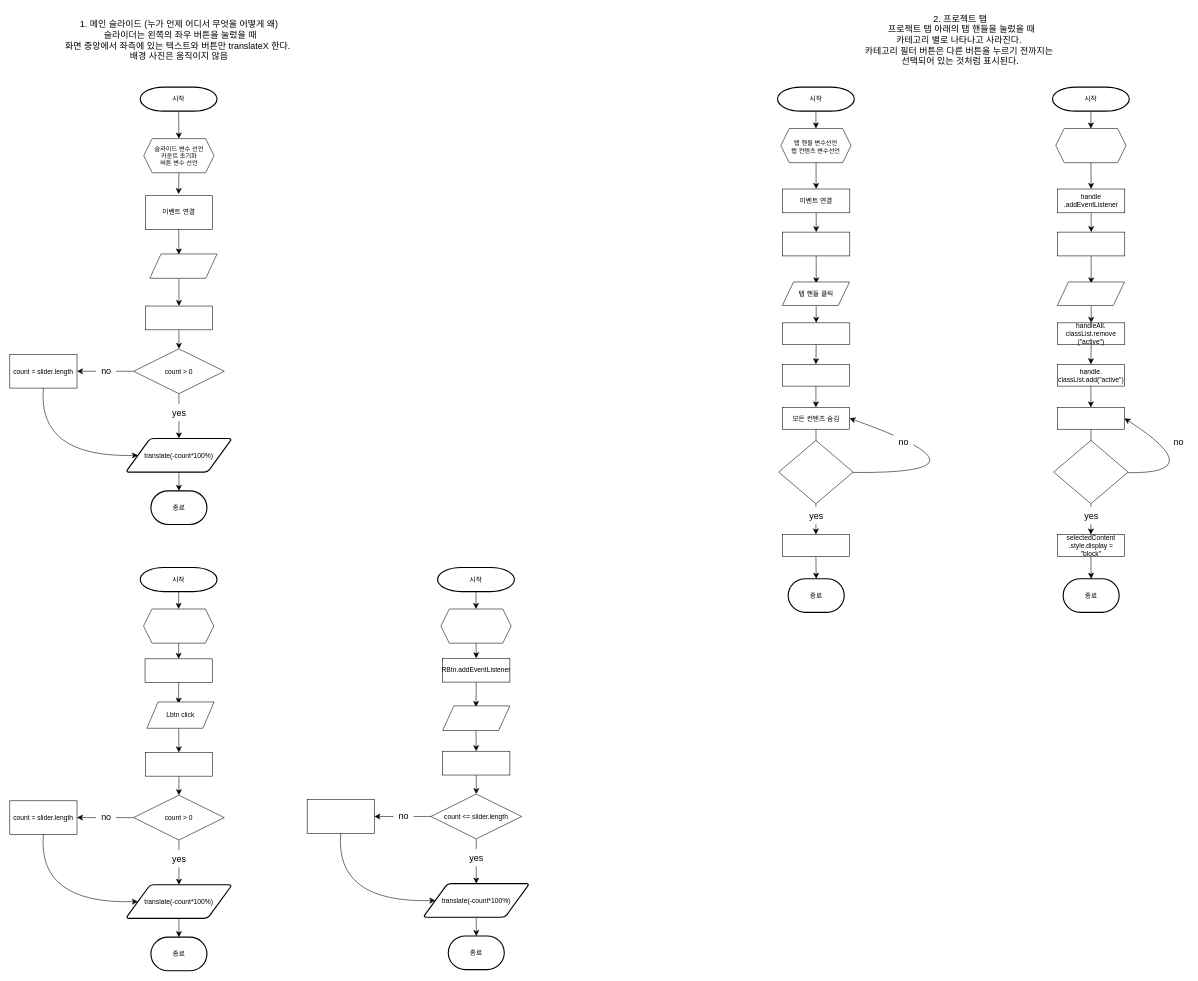
This 1198x981 diagram has some shape labels left out. Here are the shapes that lost their labels. From the top down, the centre of each, then its label:
(1090,145): handle = 탭 핸들 content = 컨텐츠
(816,244): 함수 설정
(1091,244): function clicked
(183,265): 버튼 클릭
(1090,293): handle click
(179,317): 카운트 값 증감
(816,333): 액티브 클래스 부여
(816,375): 선택되지 않은 탭은 액티브 클래스 제거
(1090,418): contentAll .style.display = "none"
(815,472): 선택된 노드의 id가 컨텐츠 클래스와 동일한글자가 있는가?
(1090,472): contentClass.indexOf (handleId) !== -1
(816,545): 선택된 탭의 컨텐츠 디스플레이 블록
(178,625): slider = 슬라이드 count = 0 LBtn = 좌측 버튼
(475,625): slider = 슬라이드 count = 0 RBtn = 우측 버튼
(178,670): LBtn.addEventListener
(476,718): RBtn click
(179,764): count --
(476,763): count ++
(340,816): count = 0
